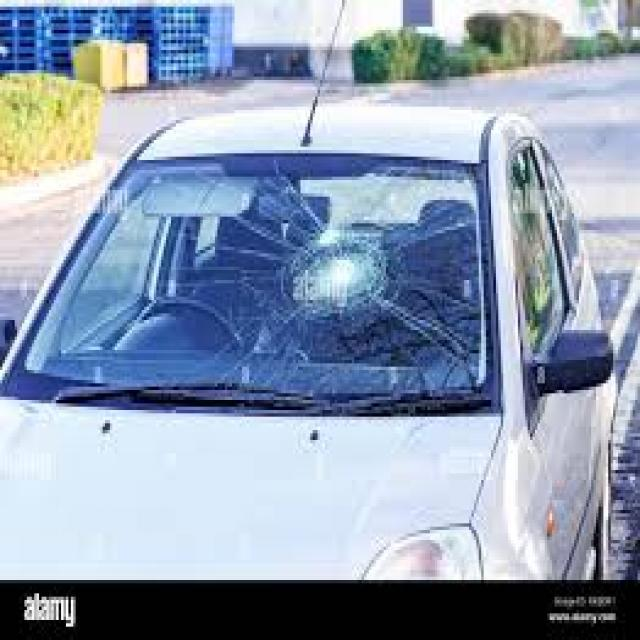damaged-windscreen: (28, 150, 502, 402)
